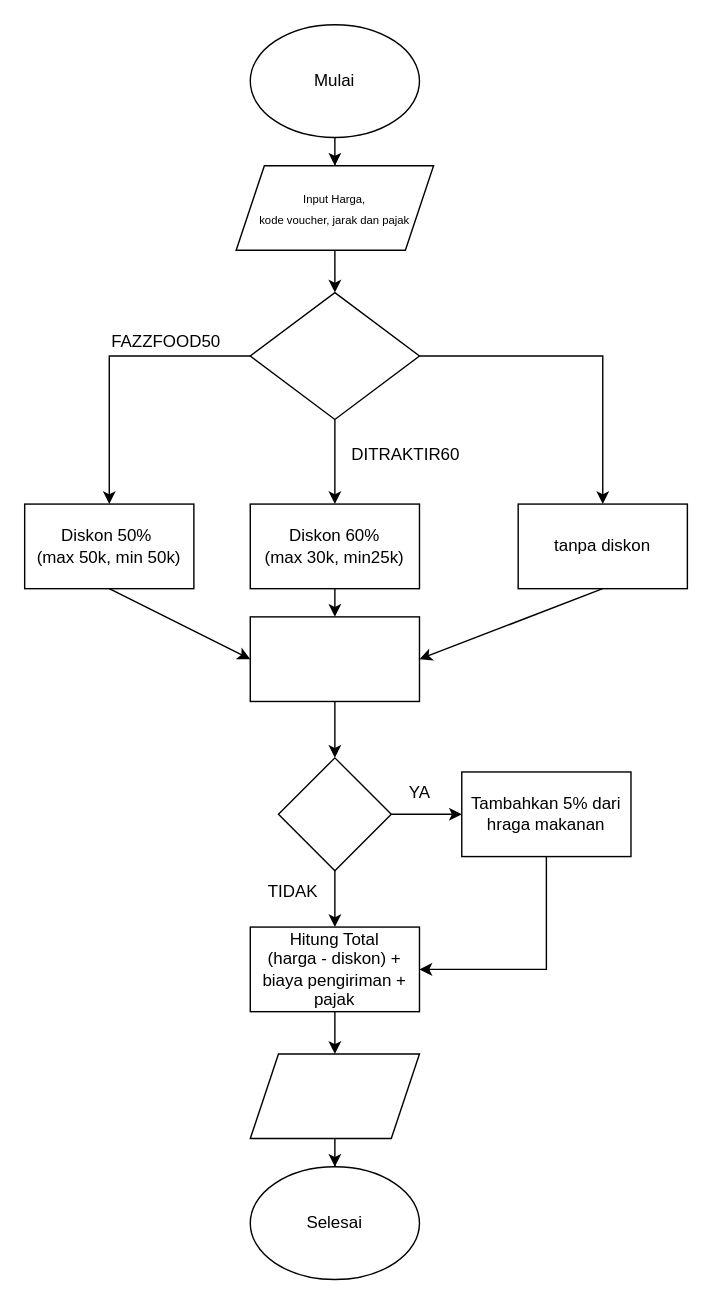
The diagram is 712 pixels wide and 1304 high, and some of its shapes have lost their labels. Each missing label, with the centre of its shape:
"Cek Promo - FAZZFOOD50 - DITRAKTIR60" goes at [334,355].
"Hitung biaya 2km = 5k >2km = 3k/km" goes at [334,658].
"Pajak?" goes at [334,813].
"Tampilkan total harga" goes at [334,1096].
